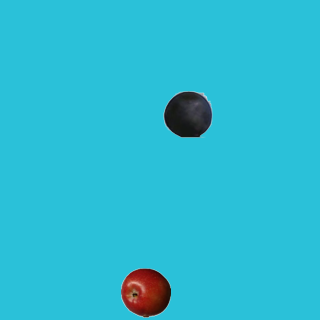Apple Braeburn: (120, 267, 170, 317)
Grape Blue: (162, 88, 212, 138)
